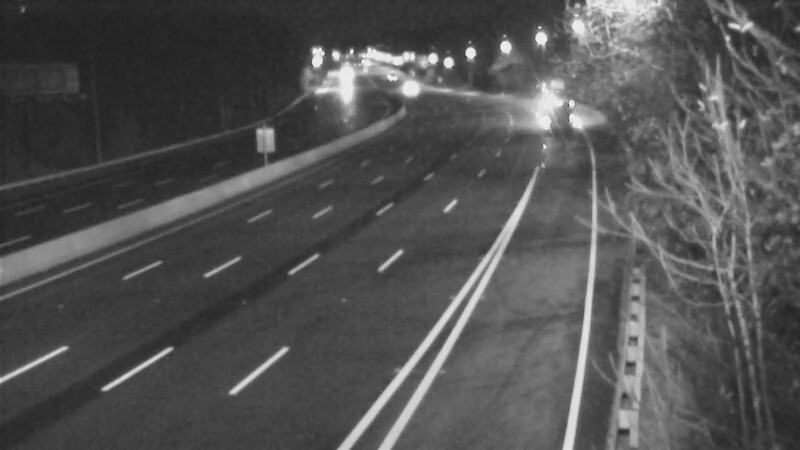vehicle: (389, 64, 439, 114), (521, 84, 571, 134), (320, 55, 370, 105)
